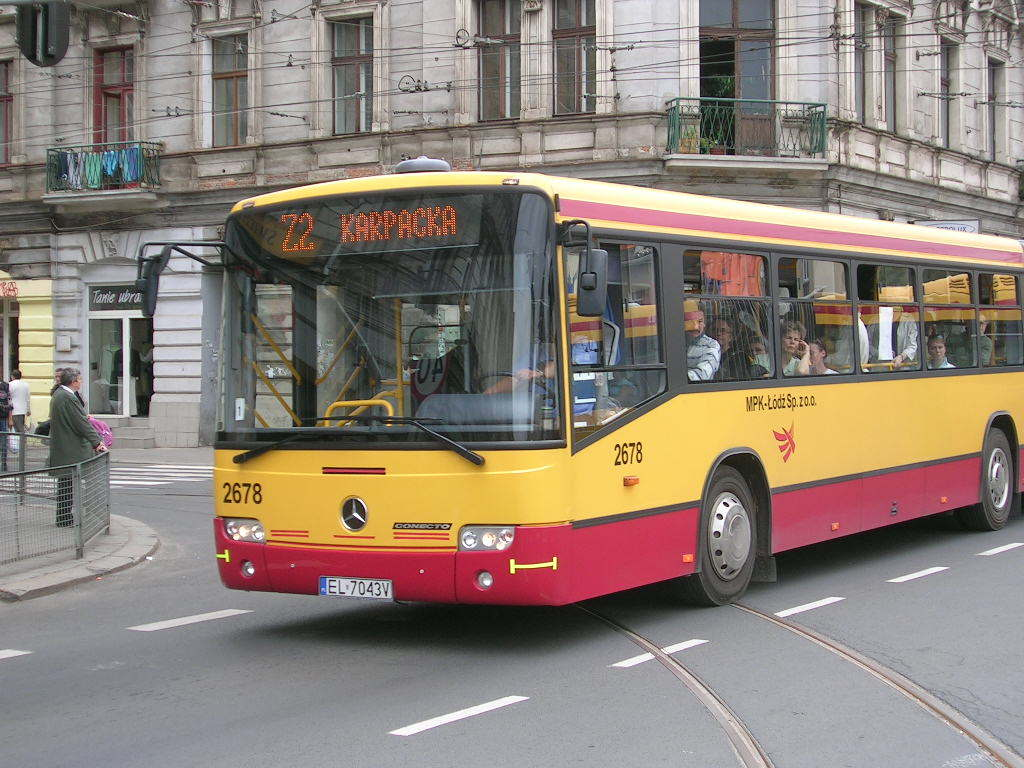Bus: (212, 170, 1023, 609)
